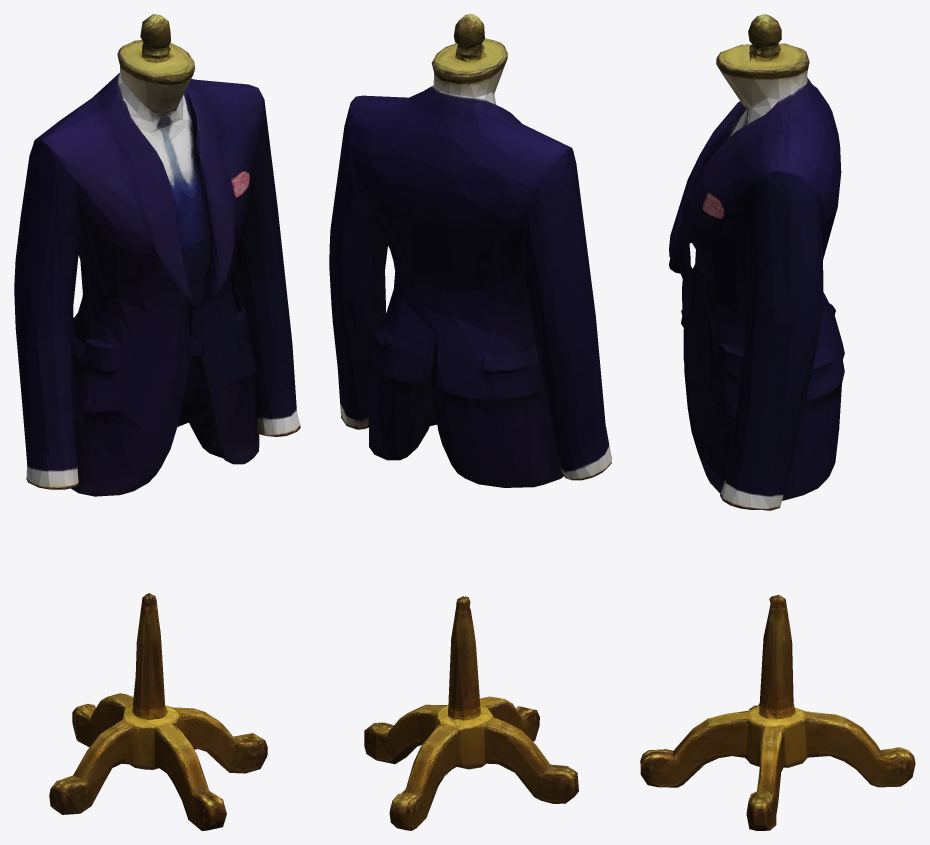
Rendered from blazer_navy_mannequin.glb.
3 views of the same model, side by side, from view 1: azimuth 30°, elevation 25°; view 2: azimuth 150°, elevation 25°; view 3: azimuth 270°, elevation 25° (orthographic).
Parts seen in each view (by area): view 1: geometry_0; view 2: geometry_0; view 3: geometry_0.
Part boxes in pixels (bbox=[...]): geometry_0: bbox=[14, 14, 300, 830]; geometry_0: bbox=[329, 14, 611, 830]; geometry_0: bbox=[640, 14, 915, 830].
Size of the model in its own units: 0.3586 by 0.9992 by 0.3248.
Materials: 1 (1 with a texture image).
